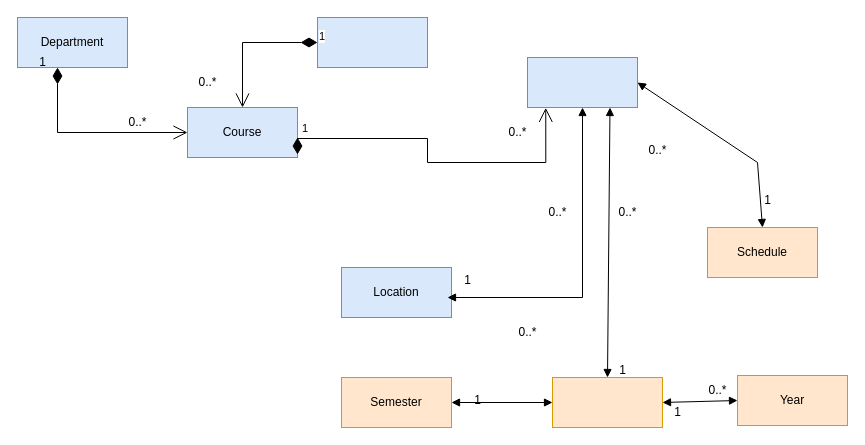
This 865x445 diagram has some shape labels left out. Each missing label, with the centre of its shape:
"Course Offering" belongs at [582,82].
"Instructor" belongs at [372,42].
"Term" belongs at [607,402].
